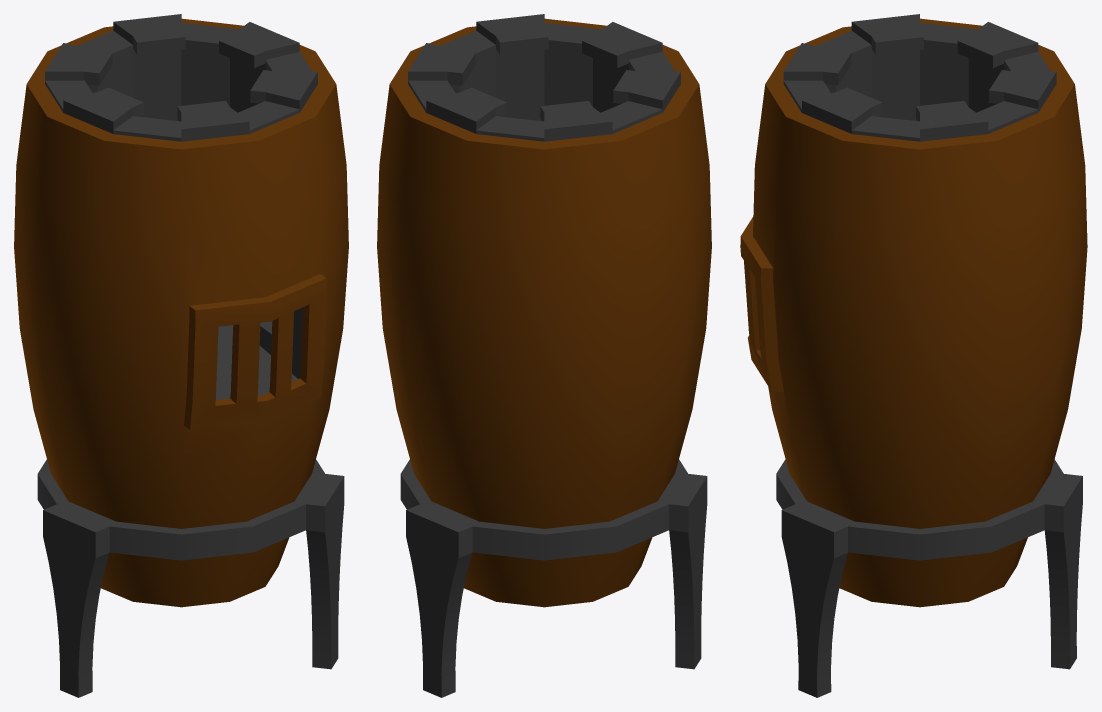
Rendered from Apothecary_Stove.fbx.
3 renders of one model, left to right at view 1: azimuth 30°, elevation 25°; view 2: azimuth 150°, elevation 25°; view 3: azimuth 270°, elevation 25°, orthographic.
Parts seen in each view (by area): view 1: Difference, Group2, Difference1; view 2: Difference, Group2; view 3: Difference, Group2, Difference1.
Boxes of the visible parts, bbox=[...] form: Difference: bbox=[14, 14, 348, 607]; Group2: bbox=[37, 459, 344, 697]; Difference1: bbox=[184, 274, 326, 429]; Difference: bbox=[377, 14, 711, 607]; Group2: bbox=[400, 459, 707, 697]; Difference: bbox=[753, 14, 1087, 607]; Group2: bbox=[776, 459, 1082, 697]; Difference1: bbox=[740, 217, 783, 391].
Bounding box in the file's own units: 0.3826 × 0.7245 × 0.3965.
